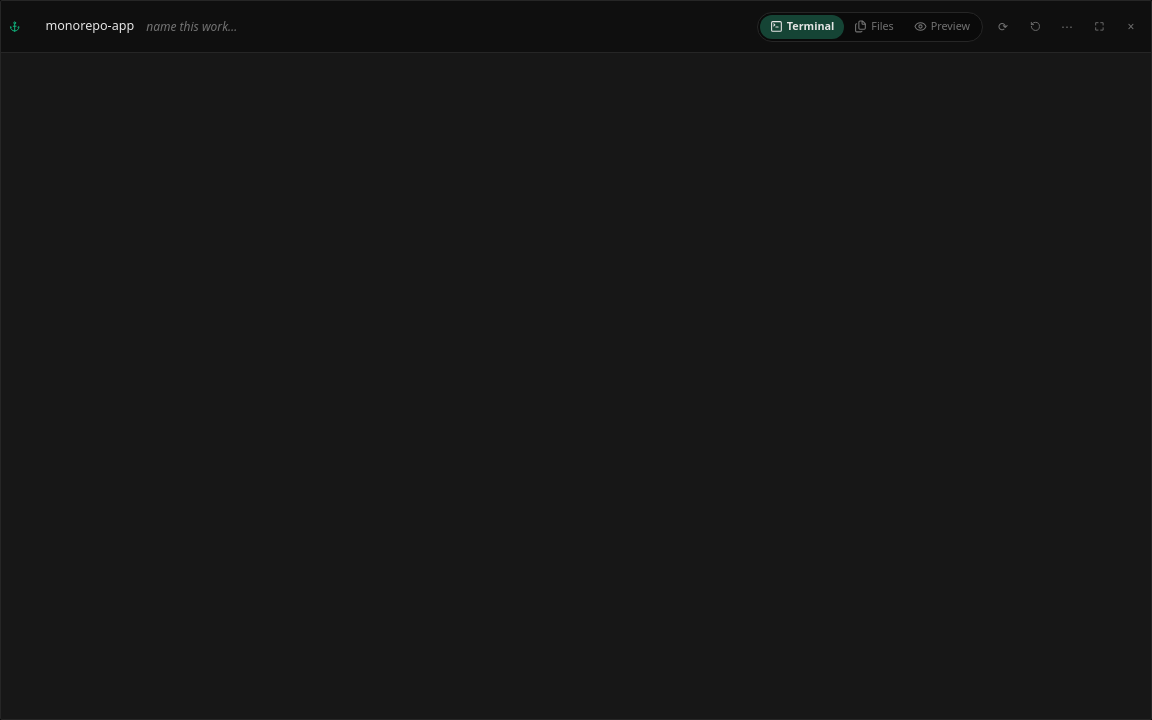
Test: Tile kill+restart confirm (captain de-captain warning) › warns that a CAPTAIN tile will be de-captained and its crew detached
Click the button named "Kill and restart session" at (1035, 26), box [1023,14,1047,38]
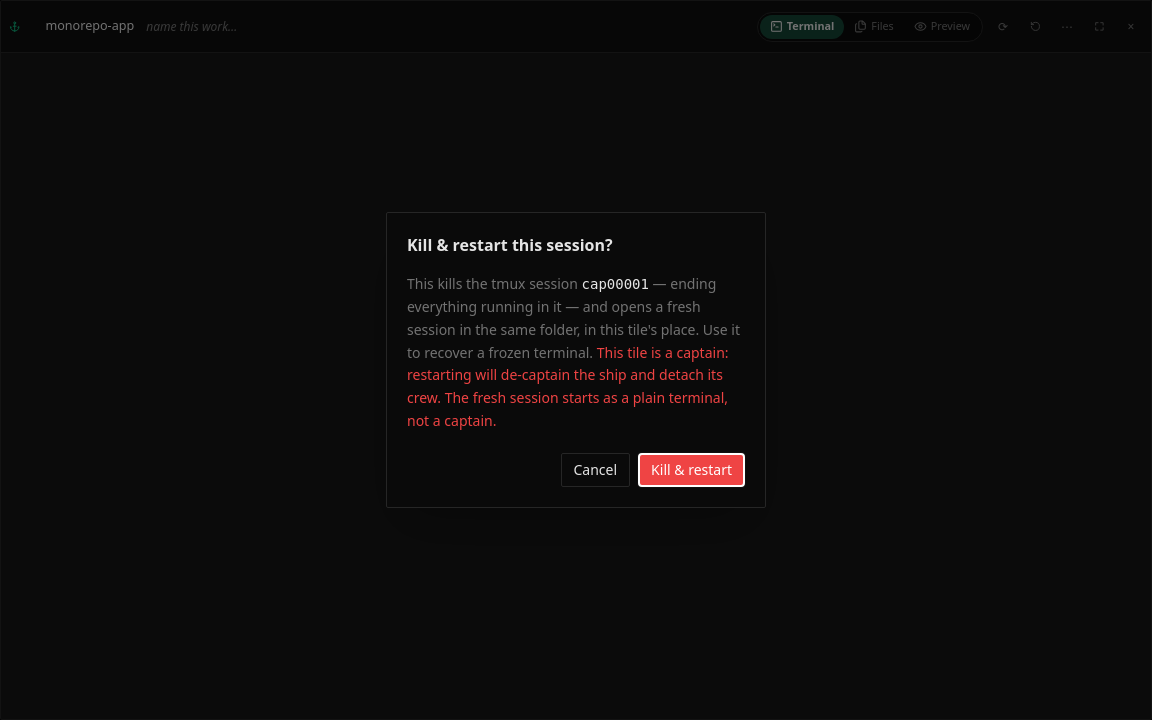
Expected: the dialog is shown, [386,212,766,508]
Expected: the dialog shows "a captain", [665,343,725,362]
Expected: the dialog shows "de-captain the ship", [407,343,729,430]
